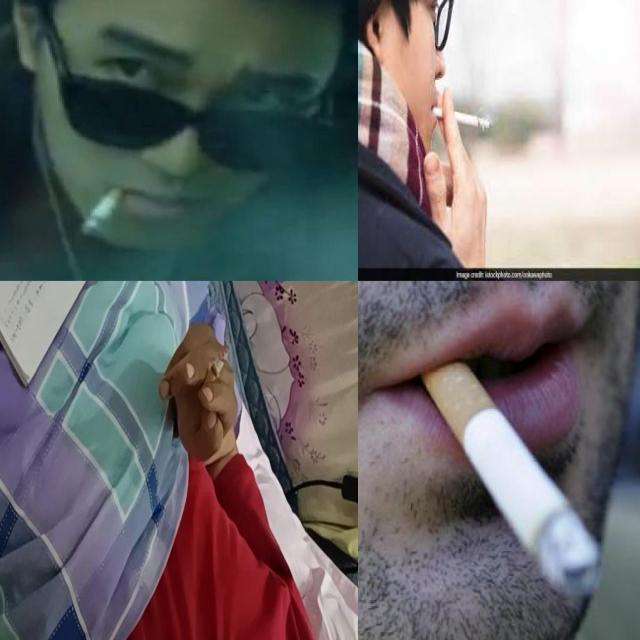smoking: (413, 338, 603, 602), (79, 184, 121, 233), (196, 345, 228, 403), (430, 104, 492, 130)
